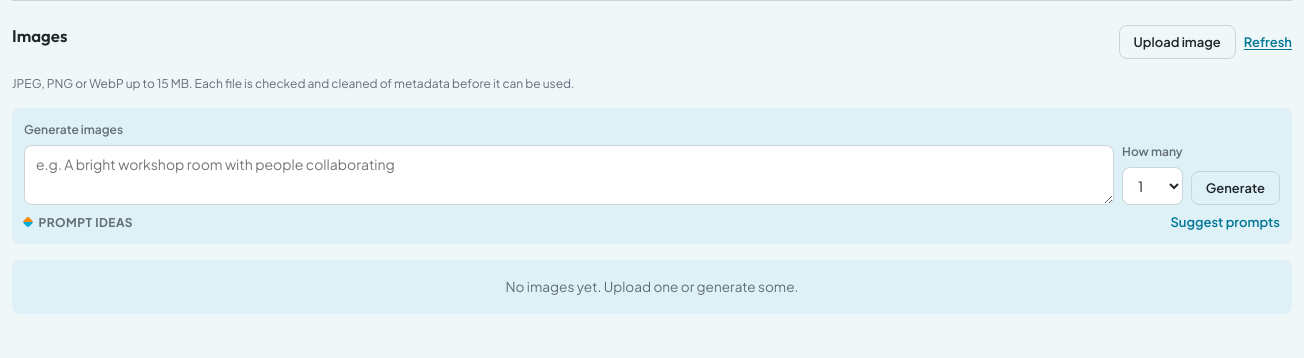
Test: AssetLibrary › reports a failed image generation
Type "x" into the text box labelled "Generate images" at (569, 175), box [24,145,1114,205]
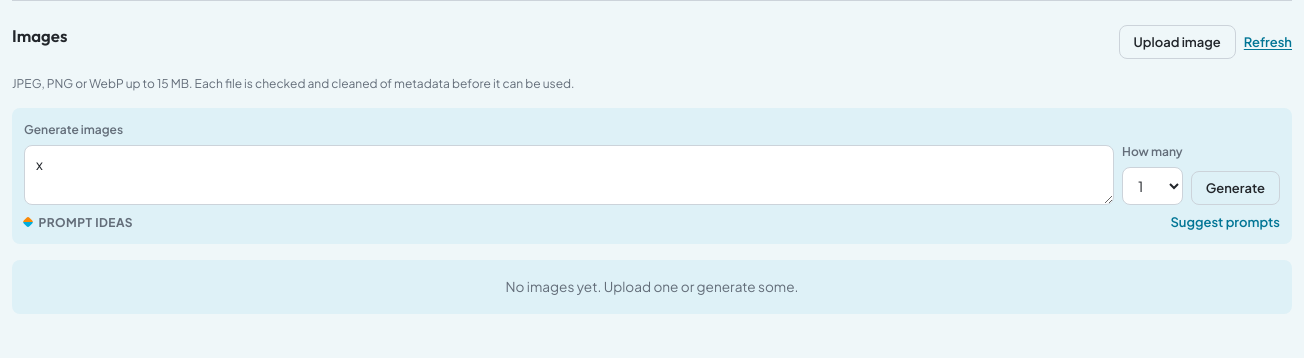
Click the button "Generate" at (1235, 188), box [1191,171,1280,205]
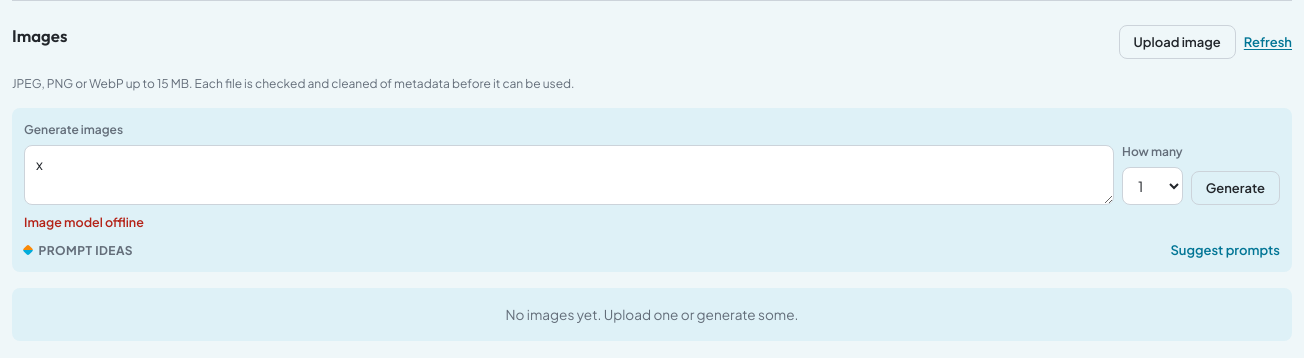
Expected: the text "Image model offline" is shown, [24,214,144,230]
